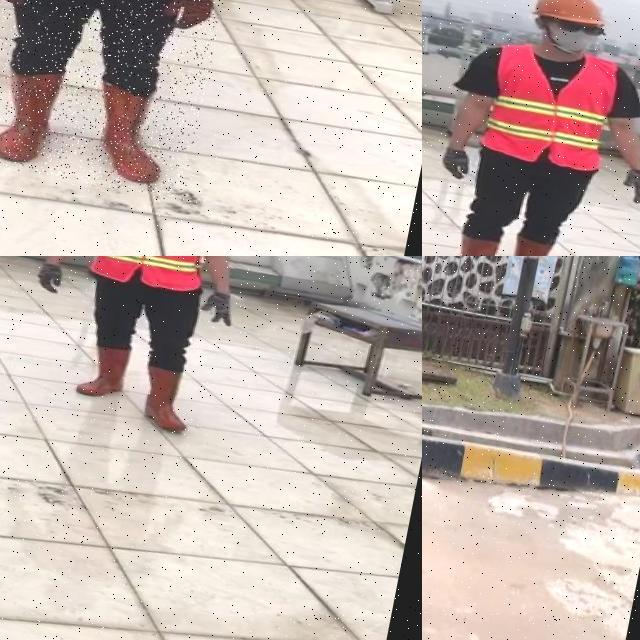boots: (88, 82, 173, 187), (0, 64, 65, 167), (133, 364, 197, 436), (74, 339, 136, 404), (445, 230, 503, 256), (502, 235, 572, 256)
helmet: (534, 0, 616, 33)
vest: (477, 39, 621, 175), (80, 256, 217, 298)
